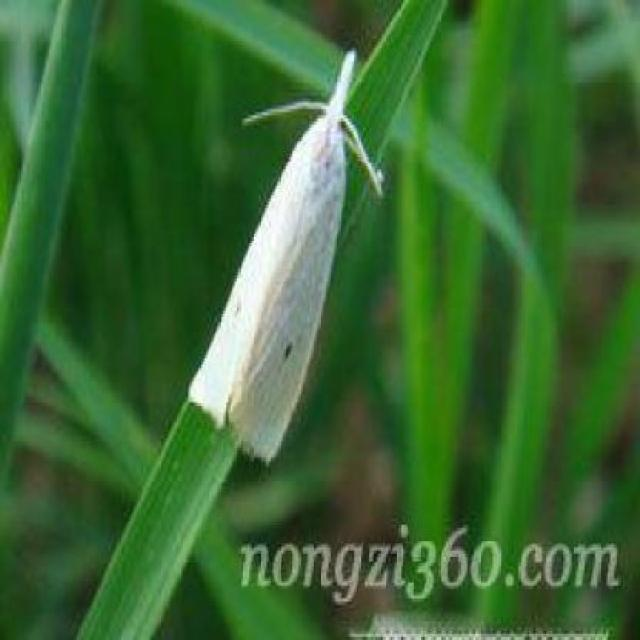stem-borer: (185, 42, 390, 474)
